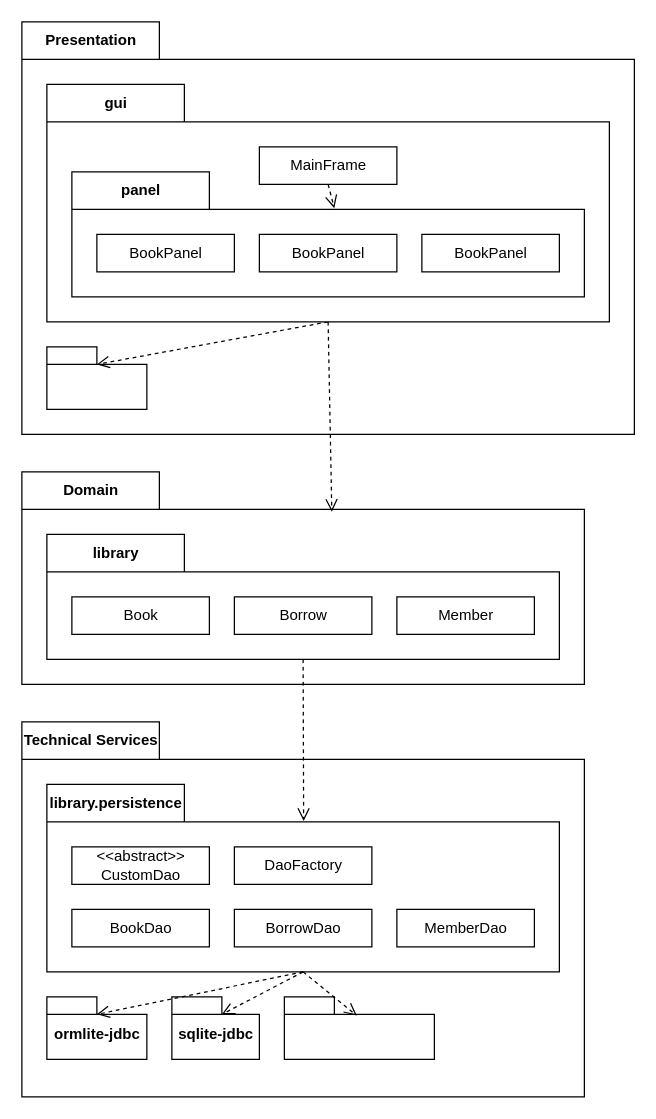
The diagram is 656 pixels wide and 1119 high, and some of its shapes have lost their labels. Here are the shapes that lost their labels. From the top down, the centre of each, then its label:
At pixel 96 377: "javax.swing".
At pixel 358 1027: "javax.persistence".
